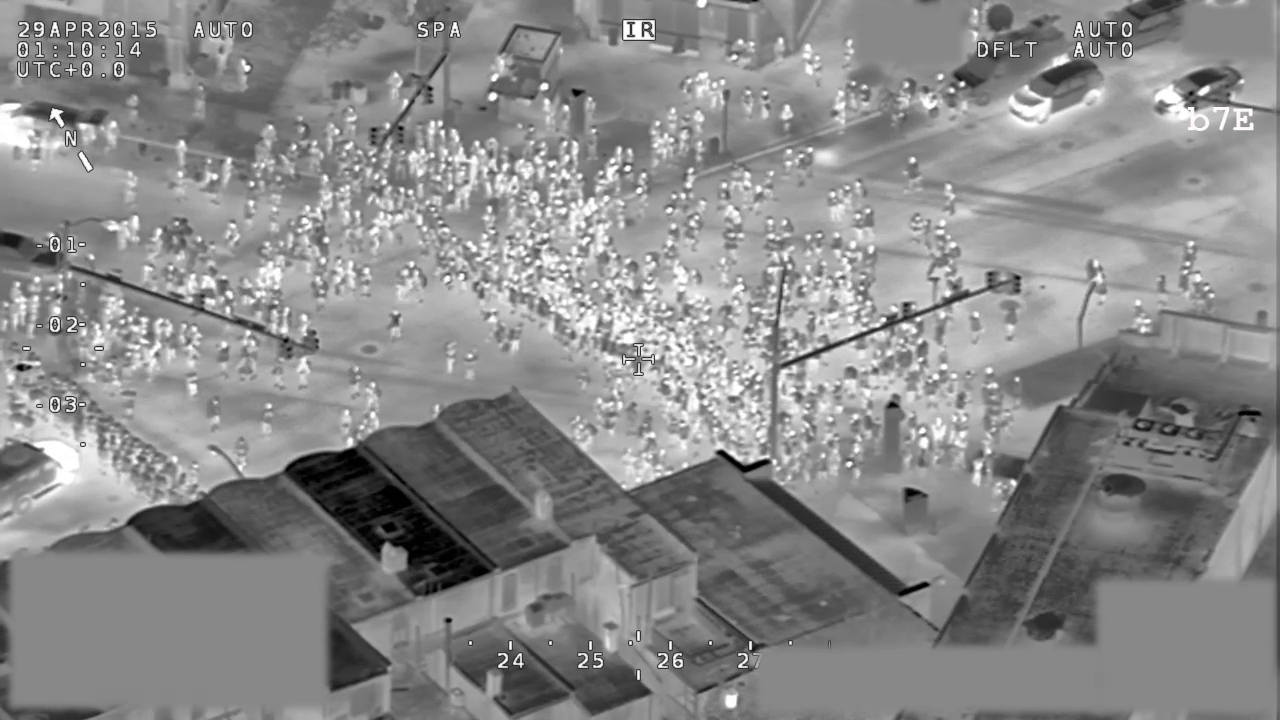vehicle: (942, 3, 1071, 109), (1, 431, 83, 523), (1005, 60, 1110, 126), (1, 98, 113, 159), (1147, 62, 1248, 122), (1088, 1, 1186, 61), (1, 228, 69, 280)
